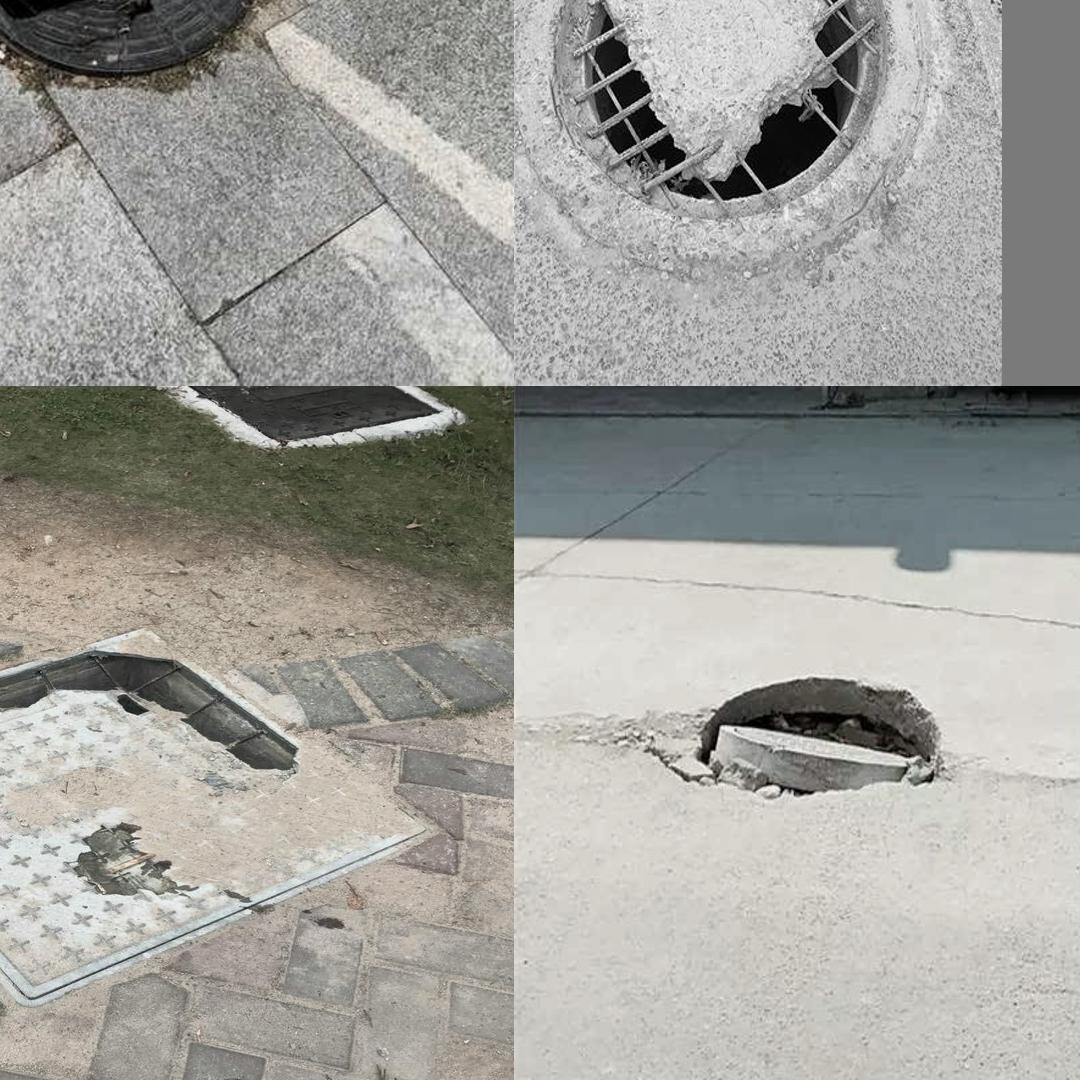broke: (0, 625, 446, 1009), (532, 0, 910, 254), (645, 650, 990, 856), (0, 0, 306, 112)
